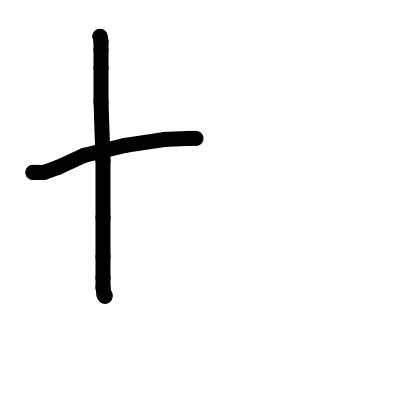plus: (28, 28, 199, 304)
